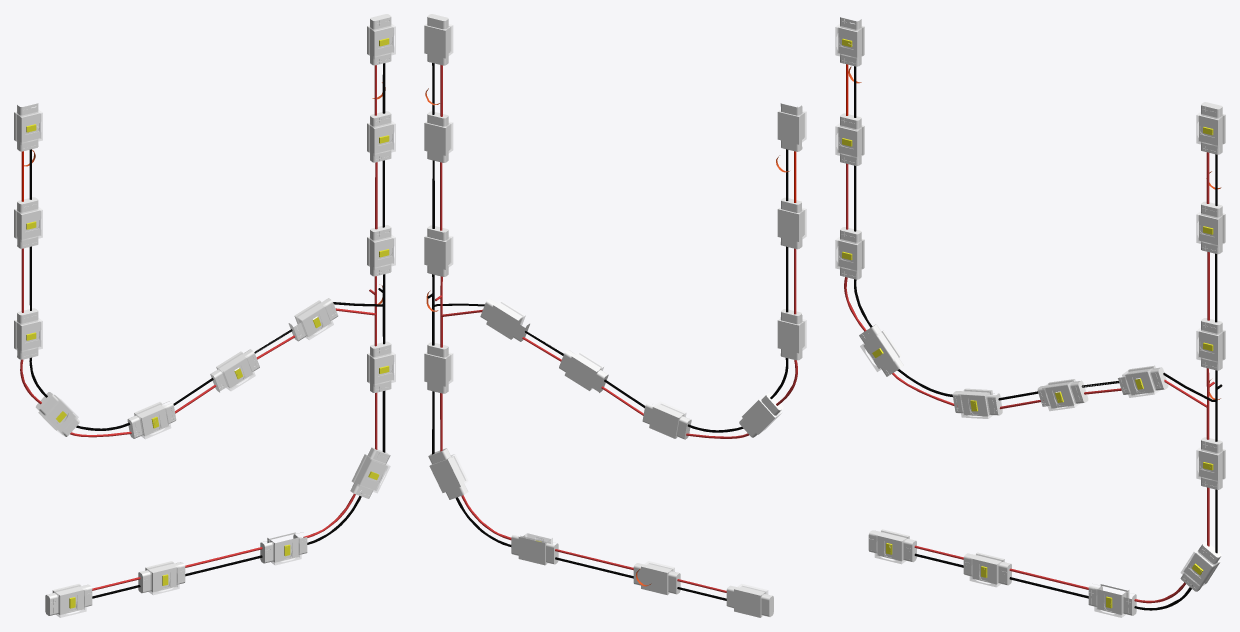
File: fixed.glb
3 renders of one model, left to right at view 1: azimuth 30°, elevation 25°; view 2: azimuth 150°, elevation 25°; view 3: azimuth 330°, elevation 25°, orthographic. The views are drawn at different scales.
Visible parts, largest first — view 1: fixed; view 2: fixed; view 3: fixed.
Part boxes in pixels (left/top/right/bottom): fixed: left=14, top=14, right=395, bottom=617; fixed: left=424, top=14, right=806, bottom=617; fixed: left=835, top=17, right=1225, bottom=617.
Bounding box in the file's own units: 35.25 × 46.62 × 2.11.
